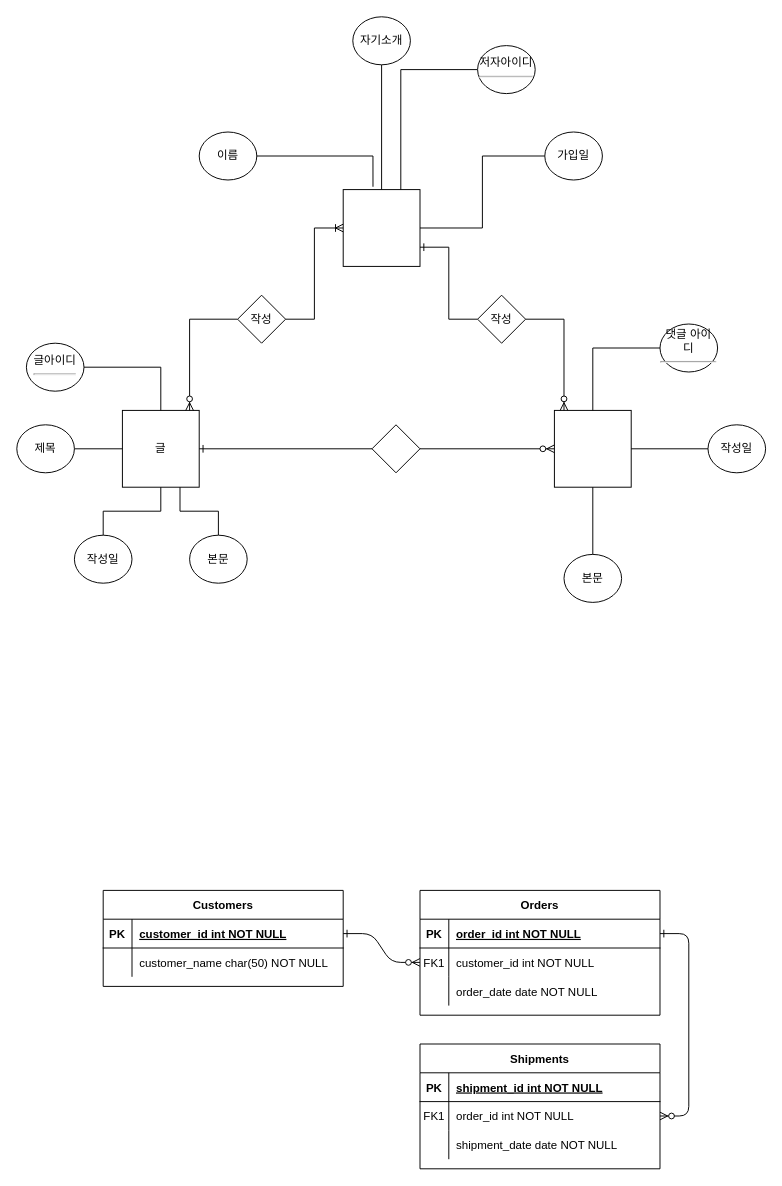
This 782x1186 diagram has some shape labels left out. Here are the shapes that lost their labels. From the top down, the centre of each, then its label:
(381,227): 저자
(395,448): 소속
(592,448): 댓글
